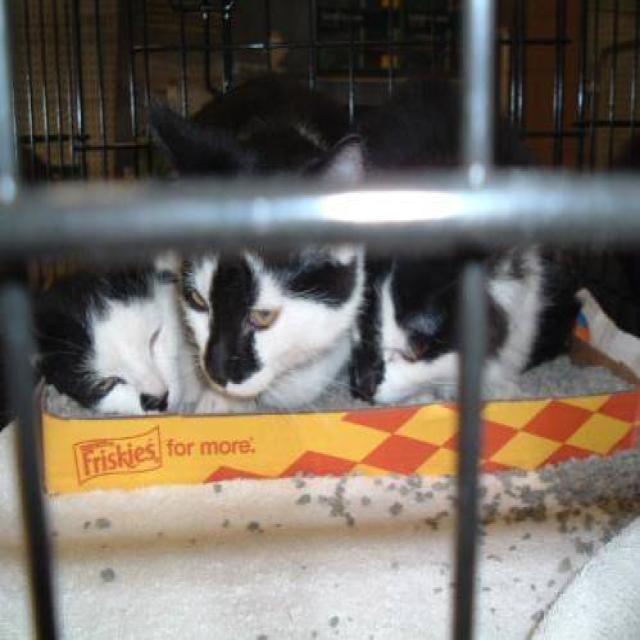cat: (130, 51, 383, 442), (344, 55, 562, 422), (12, 205, 197, 485)
